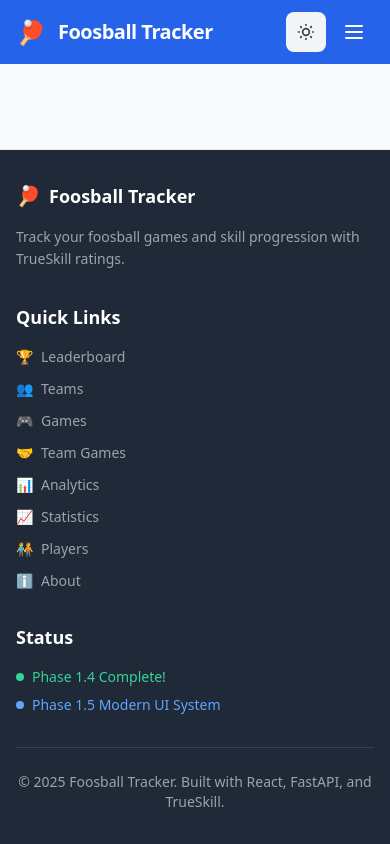
Test: Mobile Responsiveness › Layout Mobile Navigation › should toggle mobile menu when hamburger is clicked
Note: Click hamburger to open menu
Click the button named "toggle navigation menu" at (354, 32), box [334, 12, 374, 52]
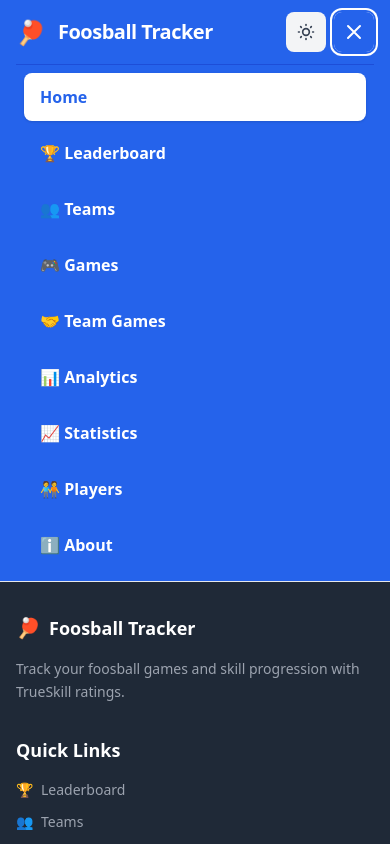
Result: the navigation bar named "Mobile navigation" is shown at [16, 64, 374, 581]
